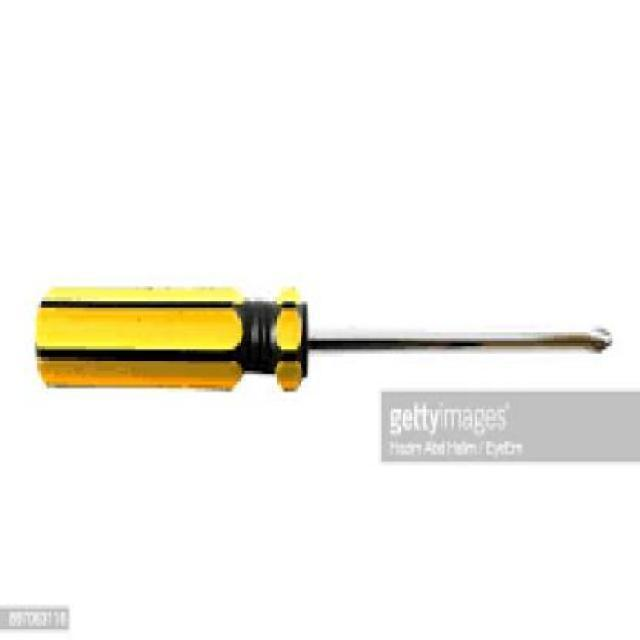screwdriver: (38, 280, 614, 396)
